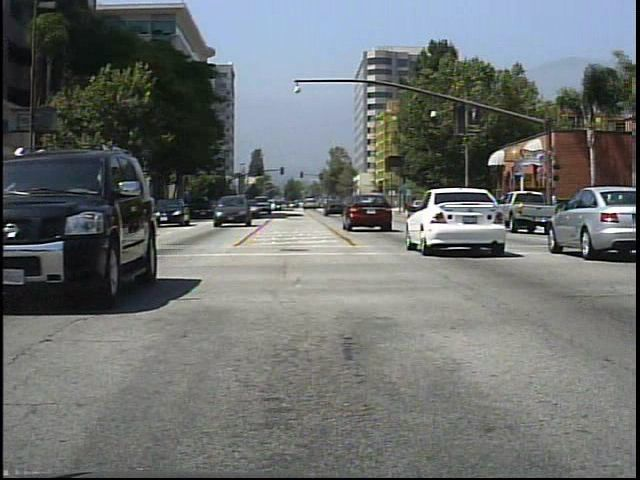person: (538, 192, 557, 228), (497, 189, 515, 224)
